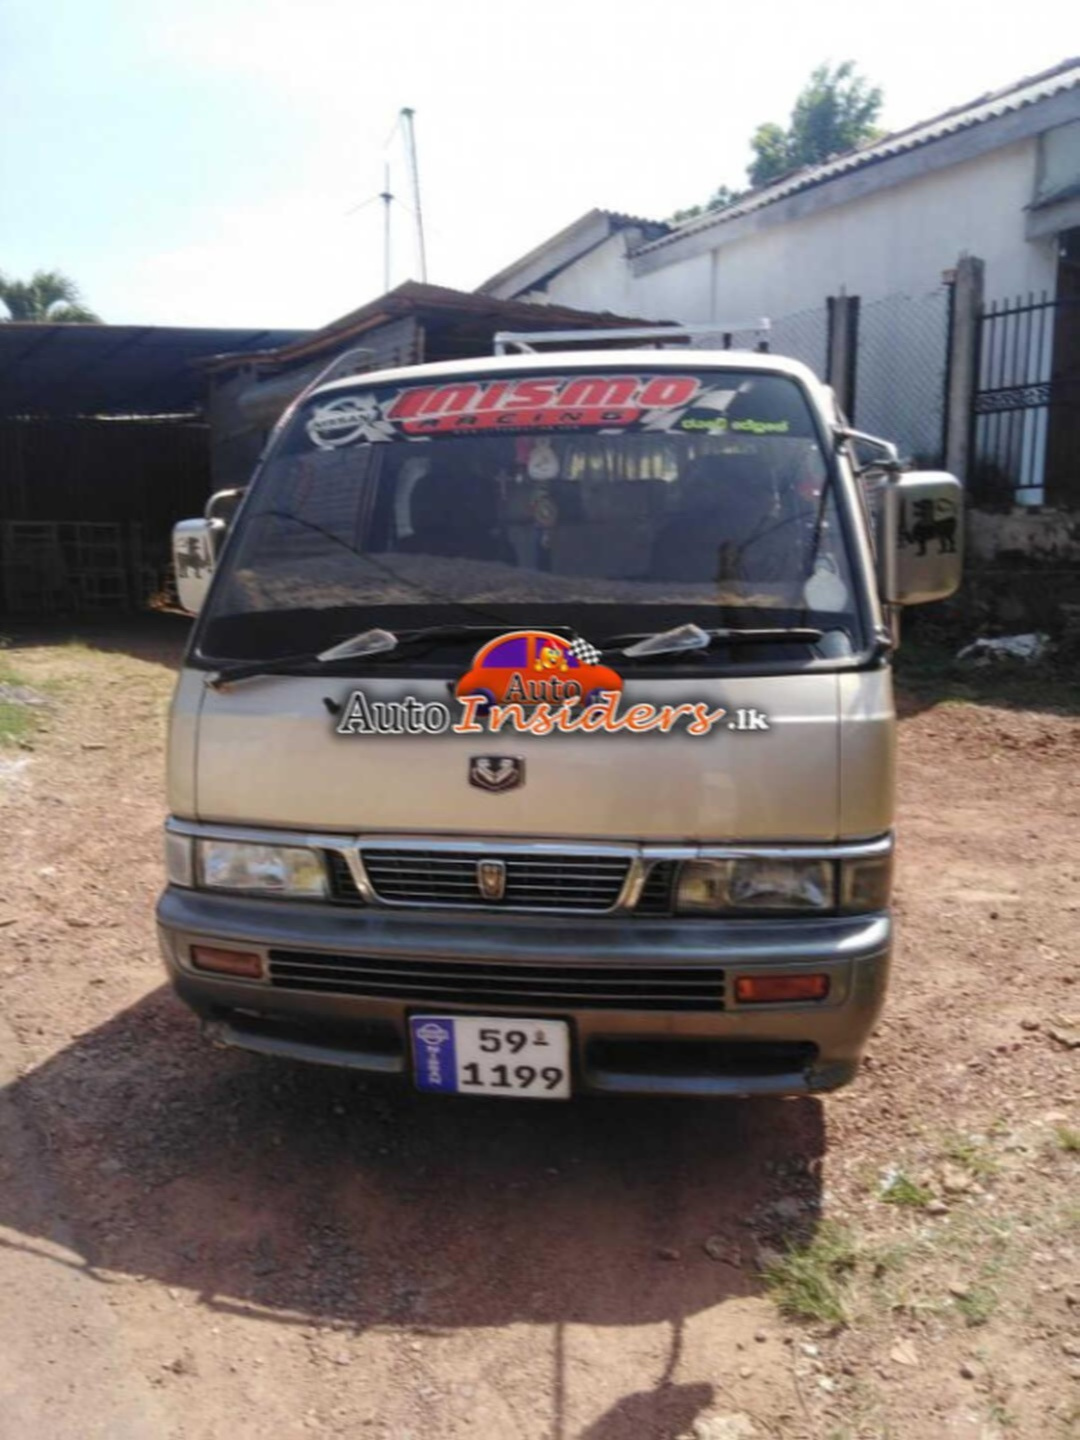van: (145, 327, 920, 1133)
